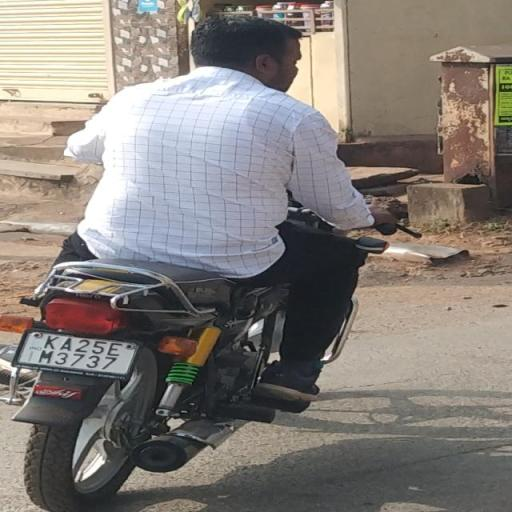bike: (15, 12, 421, 512)
numberplate: (17, 326, 142, 388)
withouthelmet: (192, 16, 292, 74)
